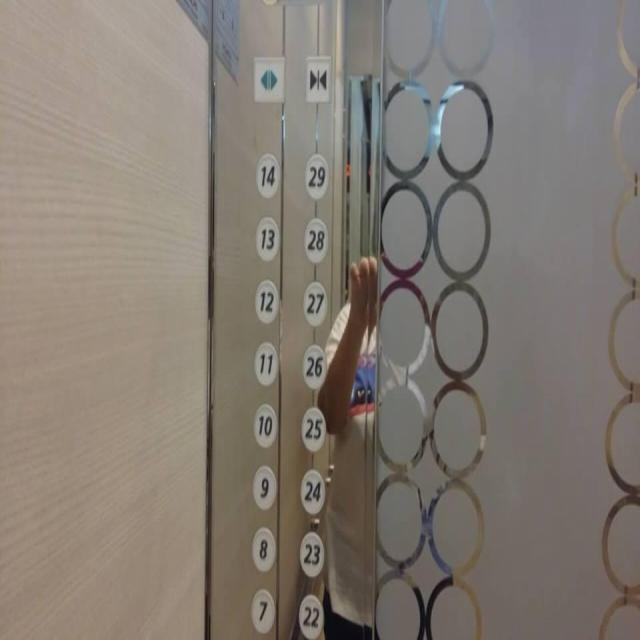10: (250, 398, 278, 452)
11: (252, 337, 280, 390)
12: (252, 273, 280, 326)
13: (254, 211, 282, 264)
14: (254, 148, 282, 202)
22: (296, 585, 324, 639)
23: (296, 527, 324, 581)
24: (296, 465, 324, 518)
25: (298, 402, 326, 455)
26: (300, 339, 328, 392)
27: (300, 276, 328, 330)
28: (302, 214, 330, 268)
29: (300, 150, 328, 204)
7: (248, 583, 276, 637)
8: (248, 520, 276, 574)
9: (250, 460, 278, 513)
close: (303, 51, 332, 107)
open: (252, 52, 287, 107)
